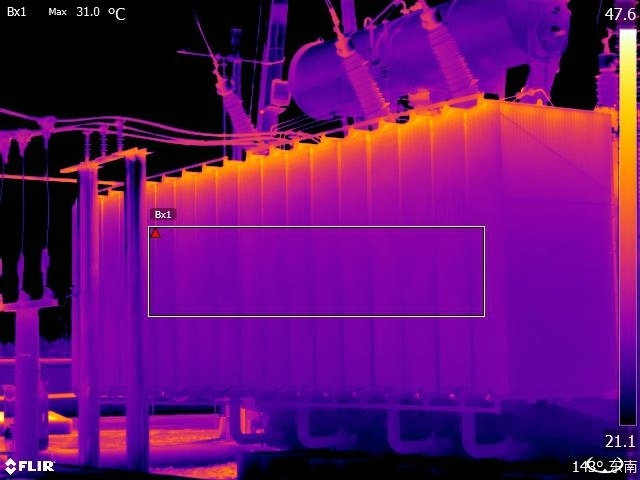clamp: (38, 112, 58, 144), (14, 127, 32, 158), (1, 130, 15, 161)
oil conservator: (295, 1, 576, 123)
post insulator: (99, 121, 111, 164), (78, 129, 91, 164), (117, 122, 126, 152)
transformer: (69, 100, 612, 404)
tube: (419, 12, 483, 107), (334, 33, 395, 123), (217, 85, 262, 149), (587, 48, 619, 106)
